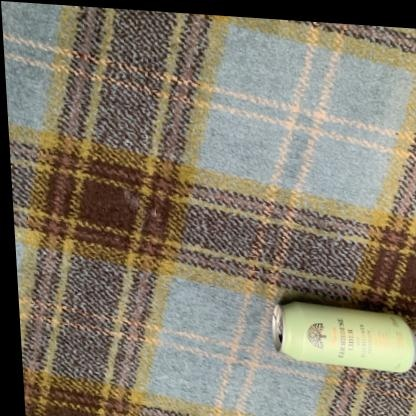trash: (272, 302, 415, 372)
